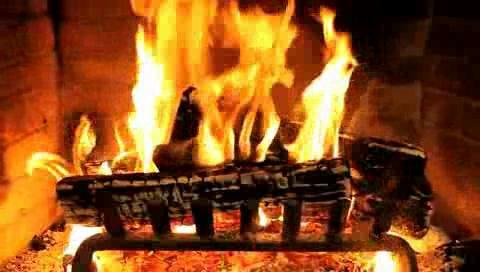fire: (112, 3, 349, 180)
